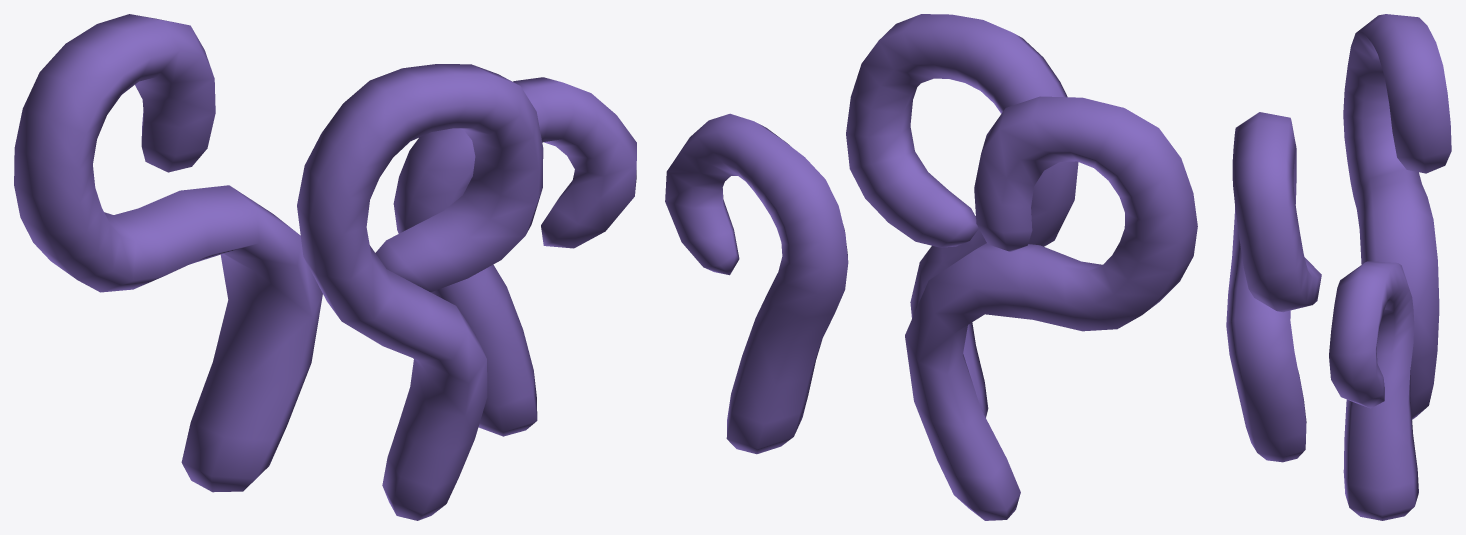
Rendered from Spiroots_01.fbx.
3 views of the same model, side by side, from view 1: azimuth 30°, elevation 25°; view 2: azimuth 150°, elevation 25°; view 3: azimuth 270°, elevation 25° (orthographic). The views are drawn at different scales.
Parts seen in each view (by area): view 1: Spiroots_01_LOD0; view 2: Spiroots_01_LOD0; view 3: Spiroots_01_LOD0.
Part boxes in pixels (left/top/right/bottom): Spiroots_01_LOD0: left=14, top=14, right=636, bottom=520; Spiroots_01_LOD0: left=665, top=14, right=1197, bottom=520; Spiroots_01_LOD0: left=1226, top=14, right=1451, bottom=520.
Size of what is drawn, in the model's own units: 588 by 460 by 260.
